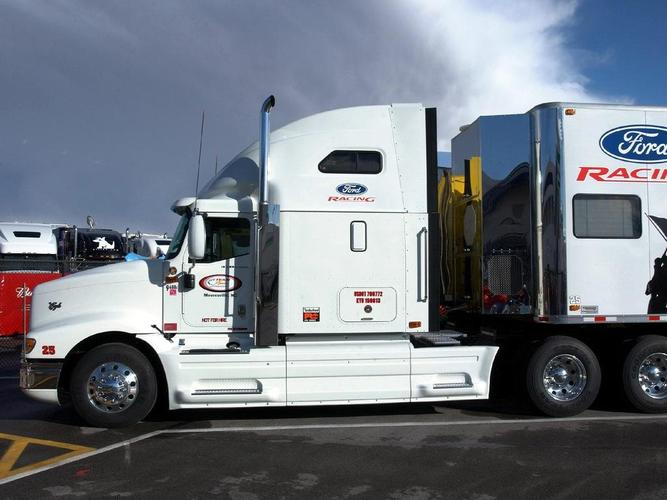卡车: (14, 91, 667, 434)
